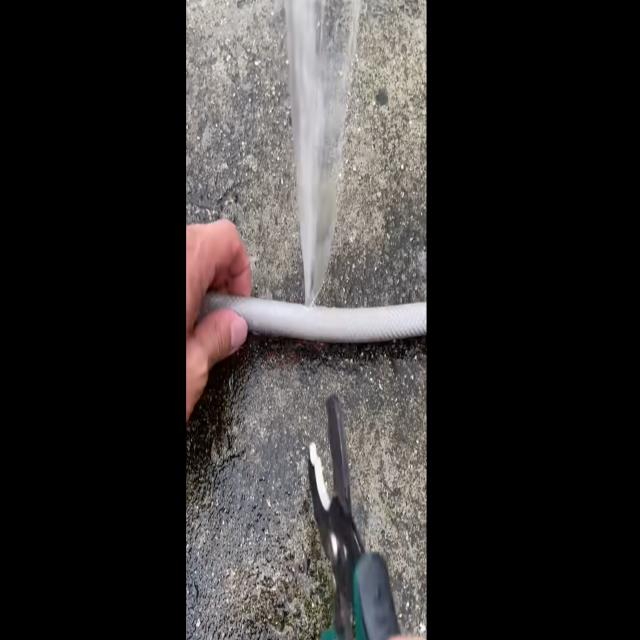leak: (283, 0, 366, 311)
